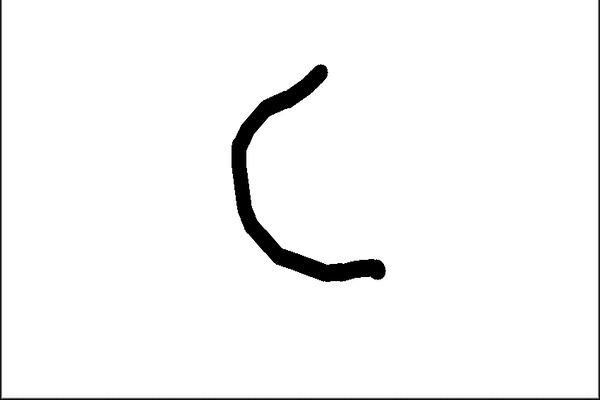C: (221, 59, 399, 285)
